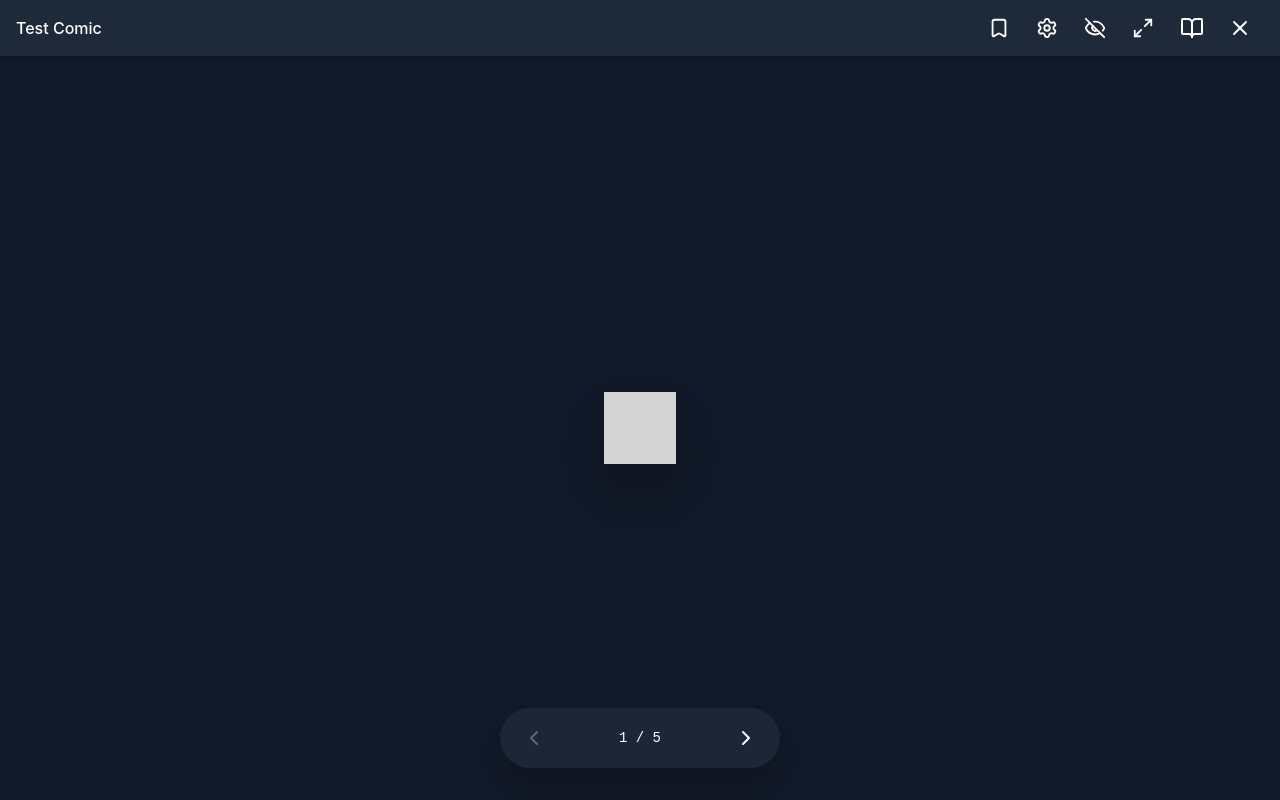
Scenario: BookReader — per-book overrides (ER-012) › clear-override button is disabled until a server override exists
The image size is (1280, 800).
Click the button named "Reader settings" at (1050, 28), box 1028,6 -> 1072,50
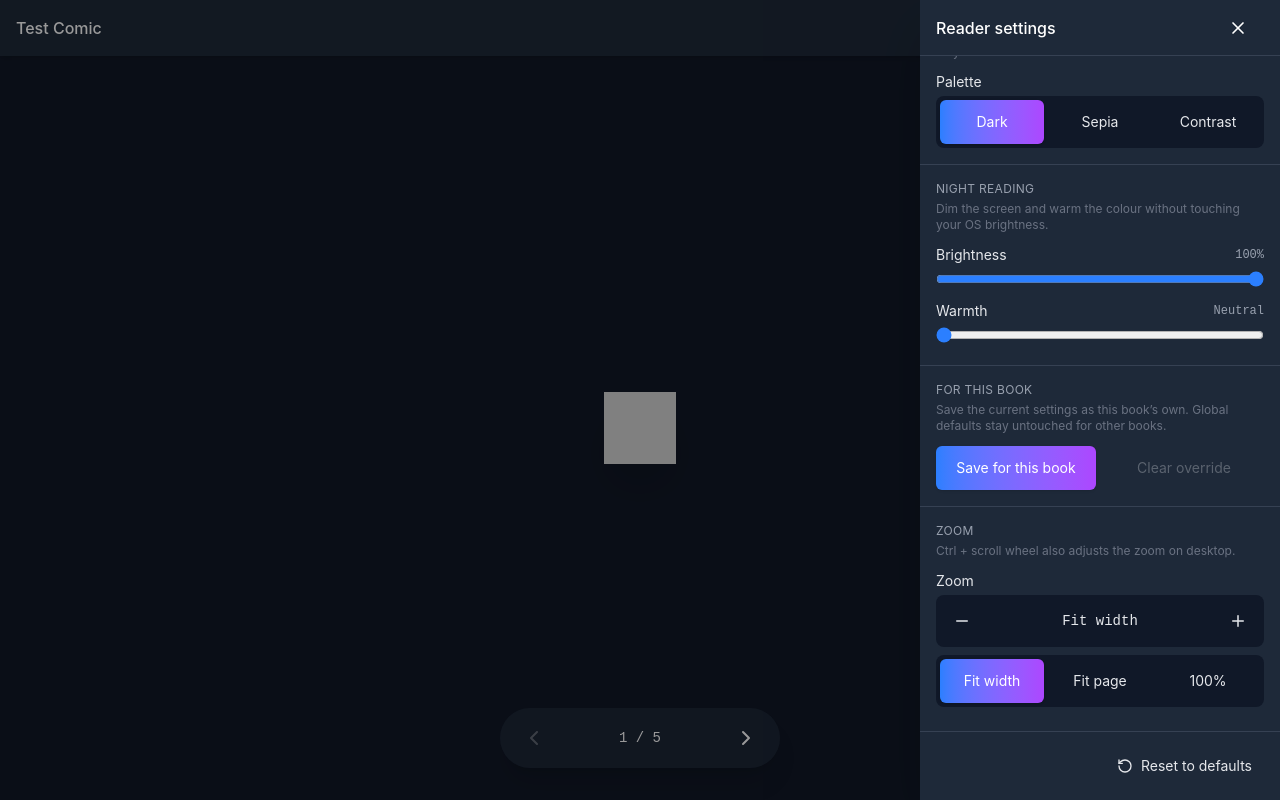
Expected: the button "Clear override" is disabled, 1104,446 -> 1264,490
